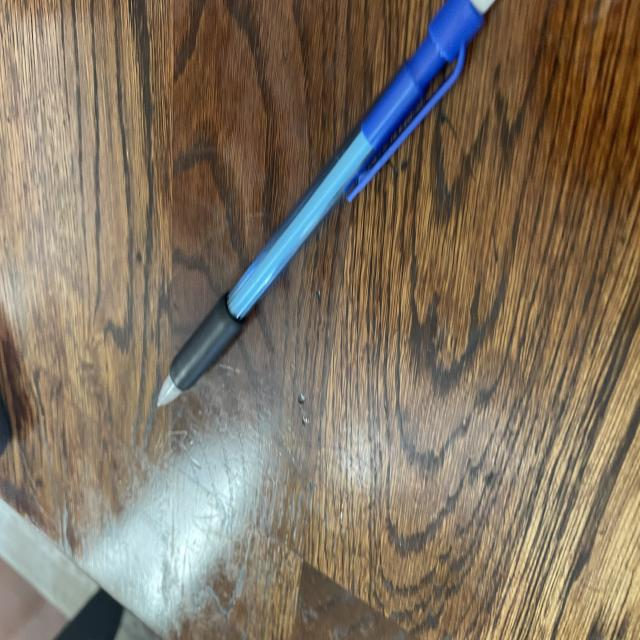mechanical-pencils: (155, 1, 510, 419)
